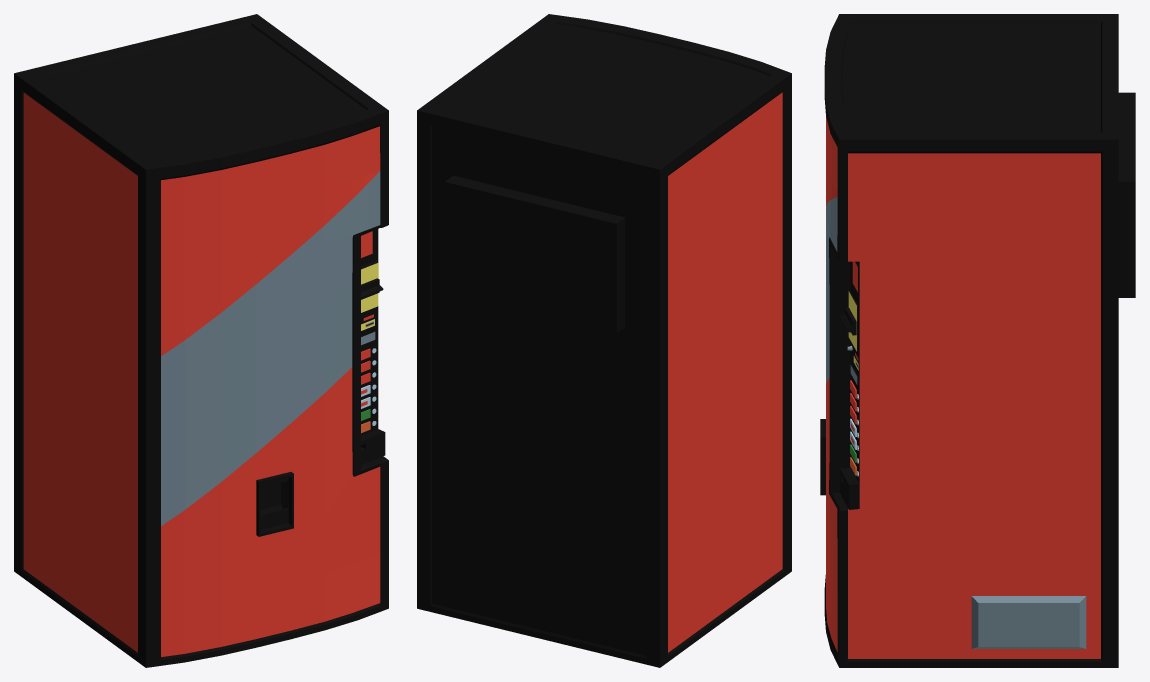
The model's file is vending_machine_free.glb.
3 views of the same model, side by side, from view 1: azimuth 30°, elevation 25°; view 2: azimuth 150°, elevation 25°; view 3: azimuth 270°, elevation 25° (orthographic). The views are drawn at different scales.
Parts seen in each view (by area): view 1: conk vendo; view 2: conk vendo; view 3: conk vendo.
Part boxes in pixels (x1,y1,x2,y2): conk vendo: (14, 14, 388, 667); conk vendo: (417, 14, 791, 667); conk vendo: (820, 14, 1135, 667).
Bounding box in the file's own units: 5.04 × 9.71 × 5.26.
